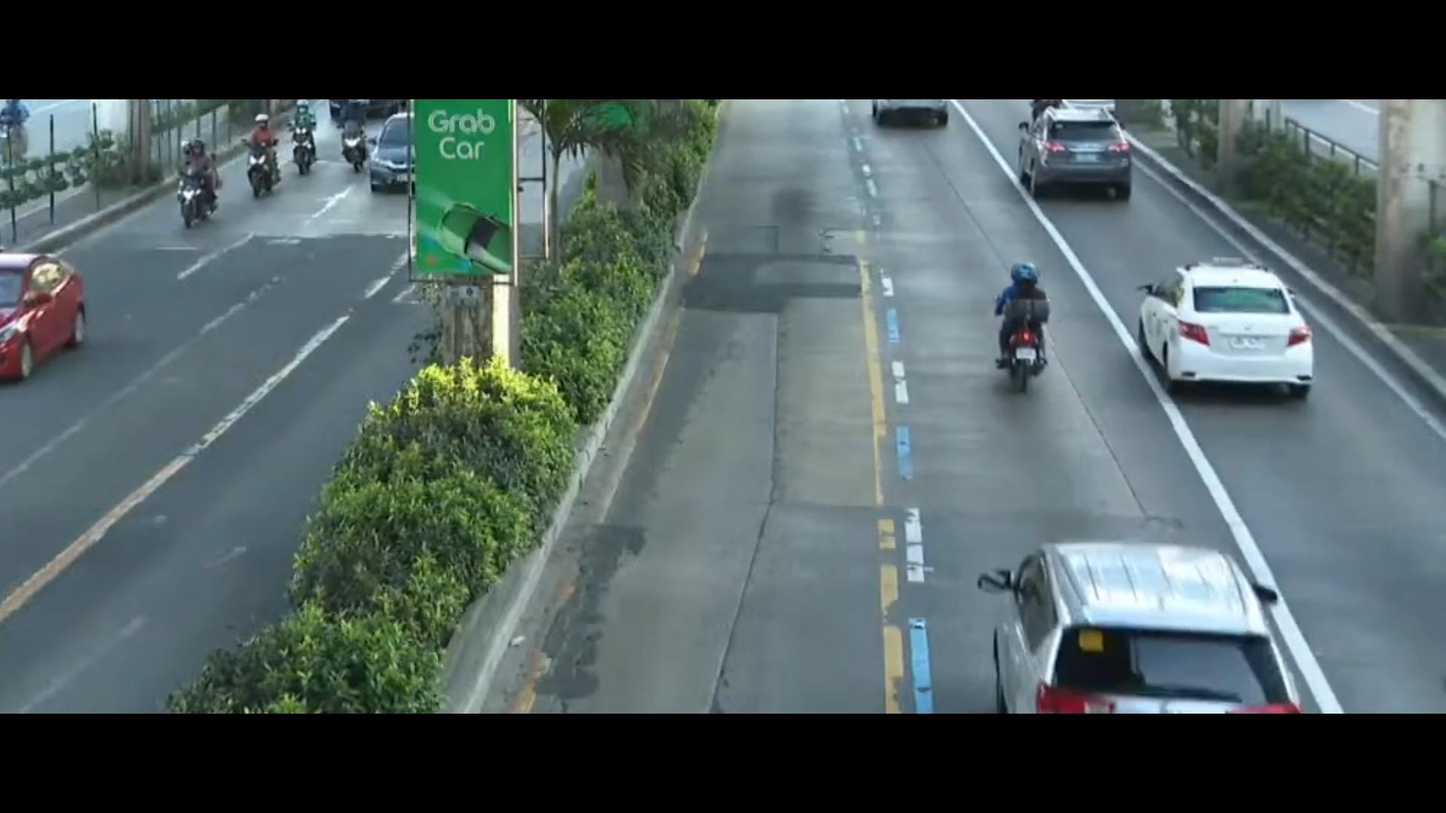Motorcycle: (961, 234, 1075, 420), (222, 108, 292, 230), (314, 71, 375, 196), (161, 133, 231, 238), (256, 103, 332, 179)
SUV: (957, 517, 1311, 713), (1007, 103, 1140, 216)
Sedan: (1124, 231, 1356, 438), (0, 234, 111, 396), (367, 103, 417, 194)
